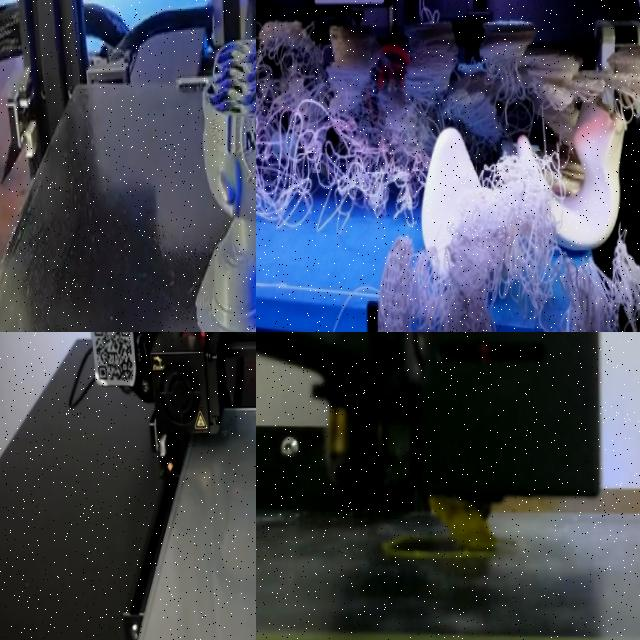spaghetti: (376, 128, 640, 332), (256, 20, 407, 231), (431, 492, 502, 562)
